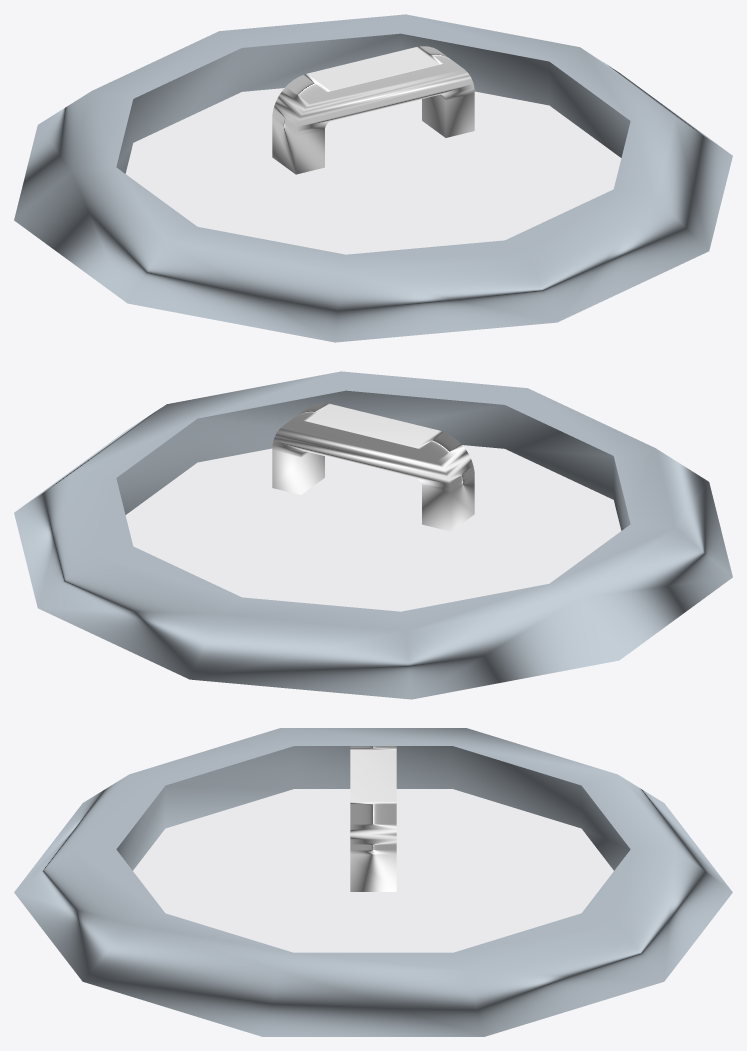
The model's file is fryingPanLid.glb.
3 renders of one model, top to bottom at view 1: azimuth 30°, elevation 25°; view 2: azimuth 150°, elevation 25°; view 3: azimuth 270°, elevation 25°, orthographic. The views are drawn at different scales.
Visible parts, largest first — view 1: fryingPanLid; view 2: fryingPanLid; view 3: fryingPanLid.
Part boxes in pixels (x1,y1,x2,y2): fryingPanLid: (14,14,732,342); fryingPanLid: (14,371,732,699); fryingPanLid: (14,728,732,1036).
Bounding box in the file's own units: 0.5767 × 0.1084 × 0.6064.
